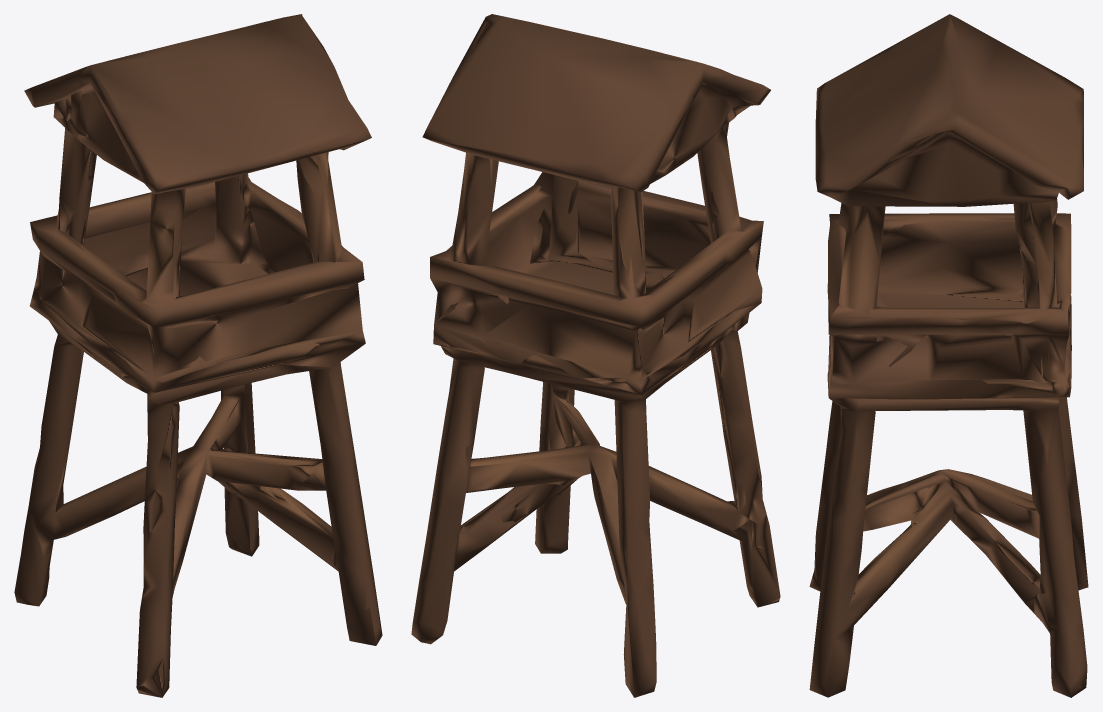
The model's file is gen3d-wooden-watchtower-lod0.glb.
3 renders of one model, left to right at view 1: azimuth 30°, elevation 25°; view 2: azimuth 150°, elevation 25°; view 3: azimuth 270°, elevation 25°, orthographic.
Parts seen in each view (by area): view 1: part_0; view 2: part_0; view 3: part_0.
Boxes of the visible parts, left/top/right/bottom form: part_0: left=14, top=14, right=382, bottom=697; part_0: left=411, top=14, right=780, bottom=697; part_0: left=809, top=14, right=1088, bottom=697.
Size of the model in its own units: 0.4412 by 0.9999 by 0.4399.
